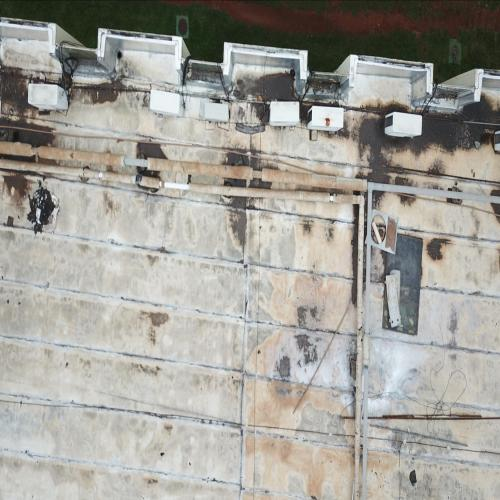conde: (25, 80, 73, 117), (380, 109, 425, 148), (147, 86, 188, 124), (308, 104, 347, 142), (269, 99, 303, 131), (203, 99, 232, 129), (494, 126, 500, 160)
